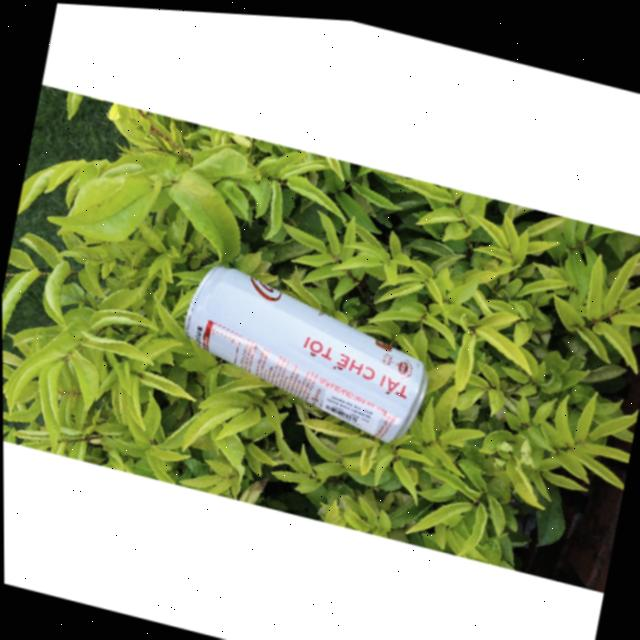Coca Cola Plus: (169, 250, 434, 447)
